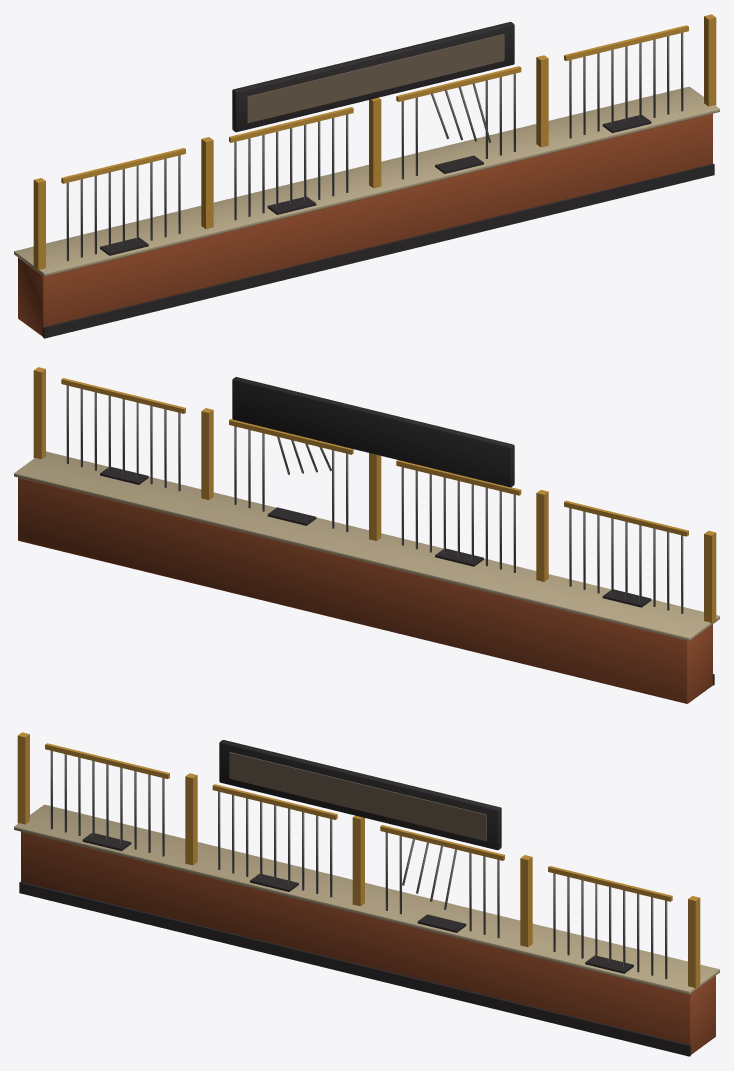
File: casino_cage.glb
The picture shows the model from 3 angles, top to bottom: view 1: azimuth 30°, elevation 25°; view 2: azimuth 150°, elevation 25°; view 3: azimuth 330°, elevation 25°; orthographic projection.
Parts seen in each view (by area): view 1: counter, top, kick, sign_face, sign, post_-6, post_6, post_3, post_-3, post_0, frame_2, frame_0 (+2 smaller); view 2: counter, top, sign, post_-6, post_6, post_-3, post_3, post_0, frame_0, frame_3, frame_1, frame_2; view 3: counter, top, kick, sign_face, sign, post_6, post_-6, post_-3, post_3, post_0, frame_1, frame_3 (+2 smaller).
Part boxes in pixels (box(x1,y1,x2,y2)): counter: box(18, 113, 712, 336); top: box(14, 86, 719, 276); kick: box(43, 163, 714, 338); sign_face: box(247, 34, 504, 123); sign: box(232, 22, 514, 132); post_-6: box(33, 178, 45, 270); post_6: box(704, 14, 716, 106); post_3: box(536, 55, 548, 147); post_-3: box(201, 137, 213, 228); post_0: box(369, 97, 381, 188); frame_2: box(396, 66, 521, 101); frame_0: box(61, 148, 185, 183); counter: box(18, 477, 712, 703); top: box(14, 451, 719, 641); sign: box(232, 377, 514, 487); post_-6: box(704, 530, 716, 623); post_6: box(33, 367, 45, 459); post_-3: box(536, 490, 548, 581); post_3: box(201, 408, 213, 499); post_0: box(369, 453, 381, 540); frame_0: box(564, 500, 688, 536); frame_3: box(61, 378, 185, 413); frame_1: box(396, 460, 521, 495); frame_2: box(229, 419, 353, 454); counter: box(21, 831, 715, 1054); top: box(14, 804, 719, 994); kick: box(19, 881, 690, 1056); sign_face: box(229, 752, 486, 841); sign: box(219, 740, 501, 850); post_6: box(688, 896, 700, 988); post_-6: box(17, 732, 29, 824); post_-3: box(185, 773, 197, 865); post_3: box(520, 855, 532, 946); post_0: box(352, 815, 364, 906); frame_1: box(212, 784, 337, 819); frame_3: box(548, 866, 672, 901).
Bounding box in the file's own units: 12.14 × 3.35 × 1.19.
